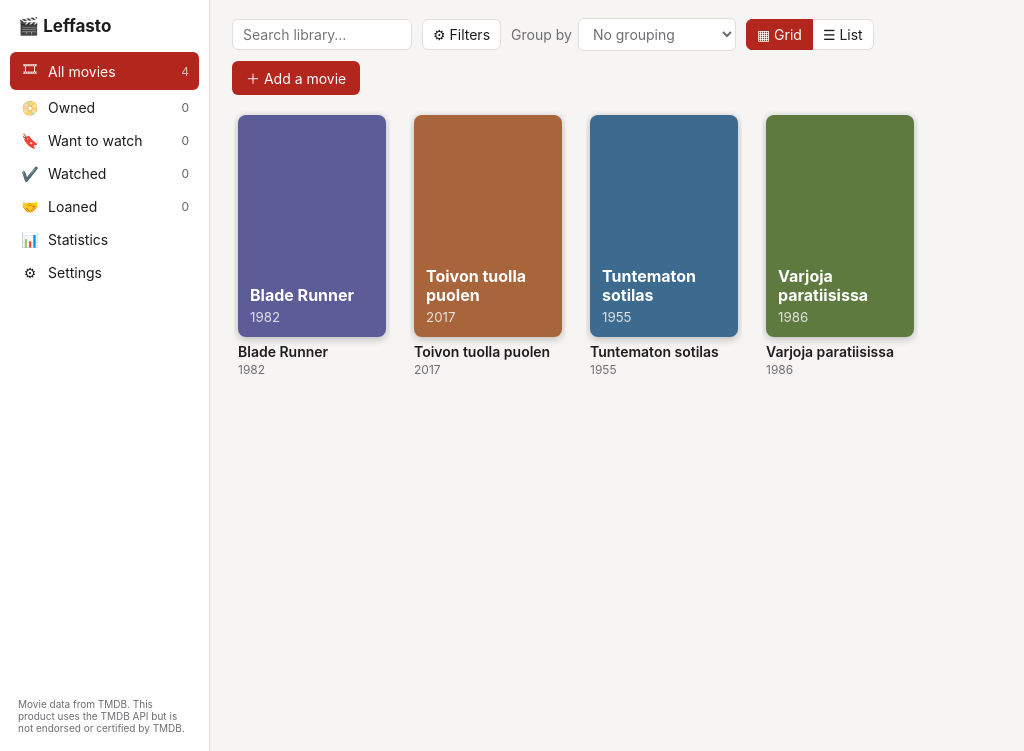
Test: loans in the UI › lending is disabled until the movie is owned
Click the 1st text "Varjoja paratiisissa" at (823, 285), box [778, 266, 868, 305]
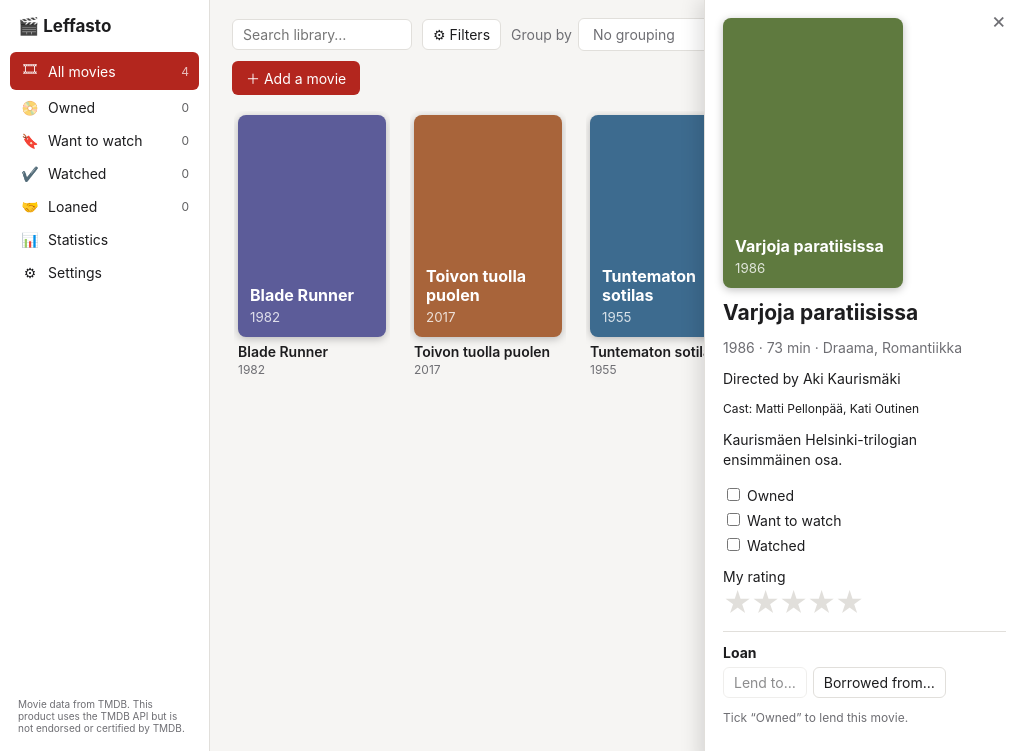
Expected: the button "Lend to…" is disabled, [723, 667, 807, 698]
Expected: the button "Borrowed from…" is enabled, [813, 667, 946, 698]
